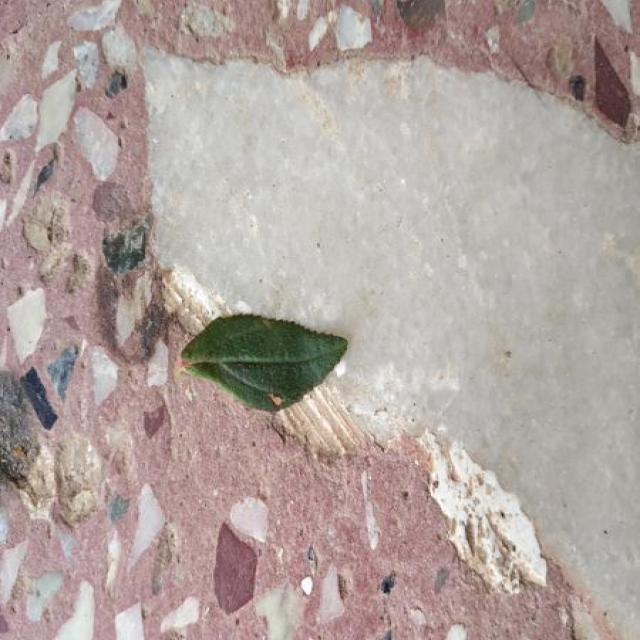defectetedAstma_weed: (183, 314, 348, 411), (182, 315, 348, 411)
